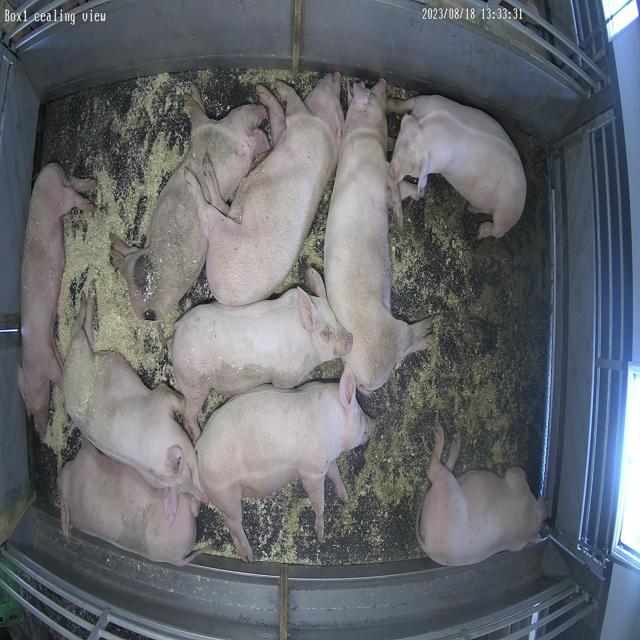Dirt: (346, 131, 551, 562)
Pig: (111, 85, 284, 320), (192, 72, 344, 306), (198, 368, 375, 562), (325, 79, 433, 394), (172, 269, 353, 440), (62, 327, 199, 498), (18, 163, 94, 432), (392, 95, 528, 238), (418, 424, 545, 567), (58, 439, 199, 566)
